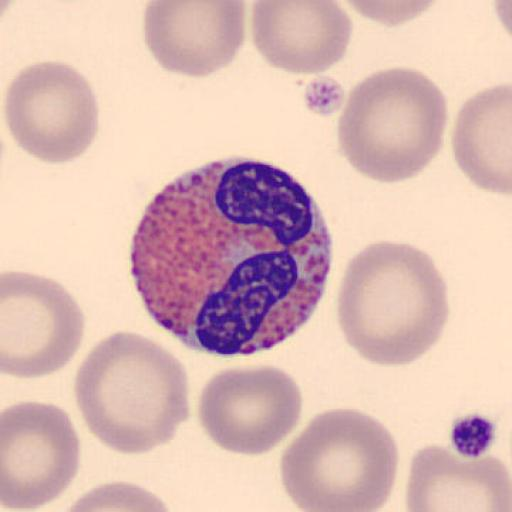Platelet: (445, 409, 498, 461), (298, 74, 348, 118)
RBC: (334, 238, 452, 368), (73, 328, 192, 456), (336, 66, 450, 184), (278, 406, 400, 512), (2, 58, 100, 166), (196, 362, 304, 457), (2, 269, 86, 380), (2, 399, 82, 511), (142, 0, 248, 79), (250, 0, 354, 76), (404, 440, 512, 512), (451, 82, 512, 196), (58, 478, 175, 512), (336, 0, 448, 27), (493, 0, 512, 39)
WBC: (127, 155, 335, 357)
